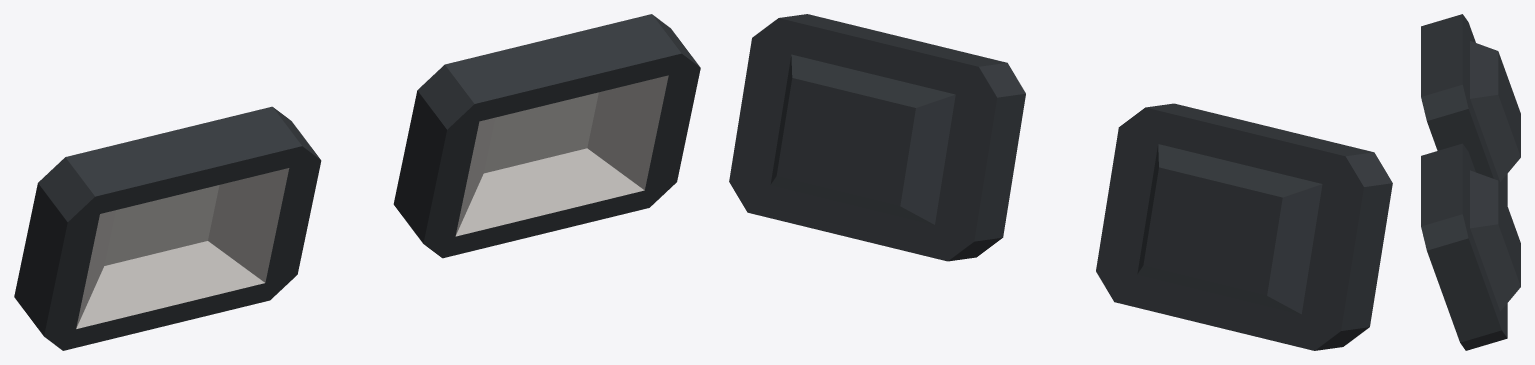
The model's file is SM_Prop_Light_Portable_Lights_01.glb.
The picture shows the model from 3 angles, left to right: view 1: azimuth 30°, elevation 25°; view 2: azimuth 150°, elevation 25°; view 3: azimuth 270°, elevation 25°; orthographic projection. The views are drawn at different scales.
Visible parts, largest first — view 1: SM_Prop_Light_Portable_Lights_01; view 2: SM_Prop_Light_Portable_Lights_01; view 3: SM_Prop_Light_Portable_Lights_01.
Boxes of the visible parts, <box> form: SM_Prop_Light_Portable_Lights_01: <box>14,14,700,350</box>; SM_Prop_Light_Portable_Lights_01: <box>729,14,1392,350</box>; SM_Prop_Light_Portable_Lights_01: <box>1421,14,1520,350</box>.
Bounding box in the file's own units: 0.5975 × 0.1764 × 0.1169.
1 material, 1 textured.
